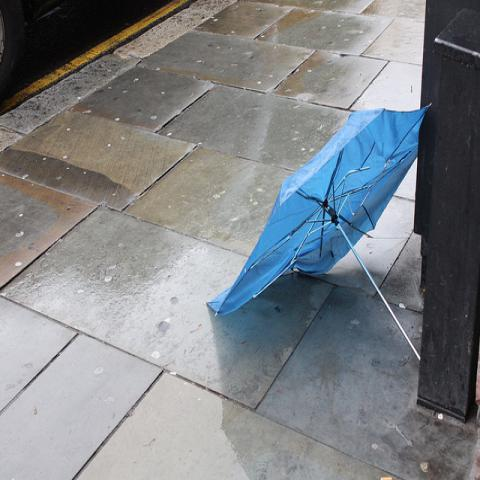car: (0, 2, 69, 106)
